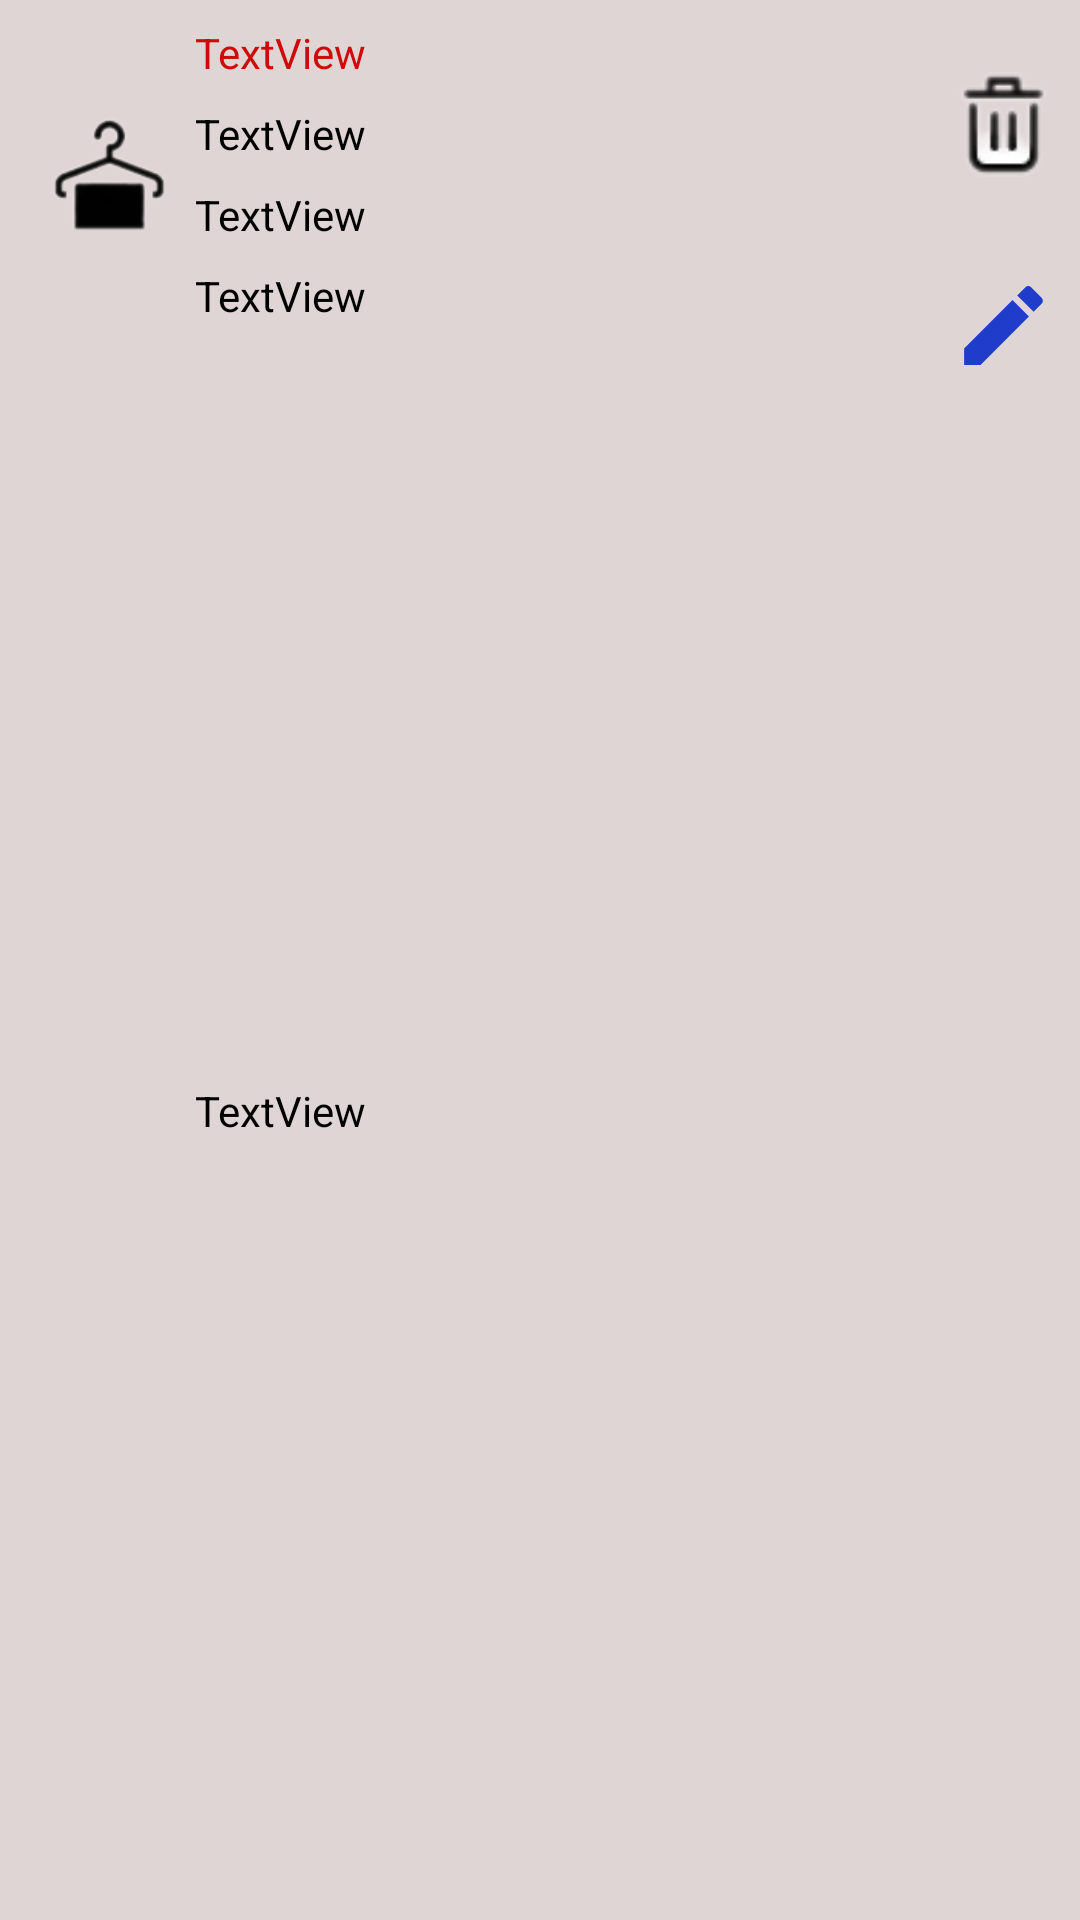

Where to tap for icons on this 1080px×1920px app screen, as (x=x, y=y):
edit: (x=1003, y=325)
